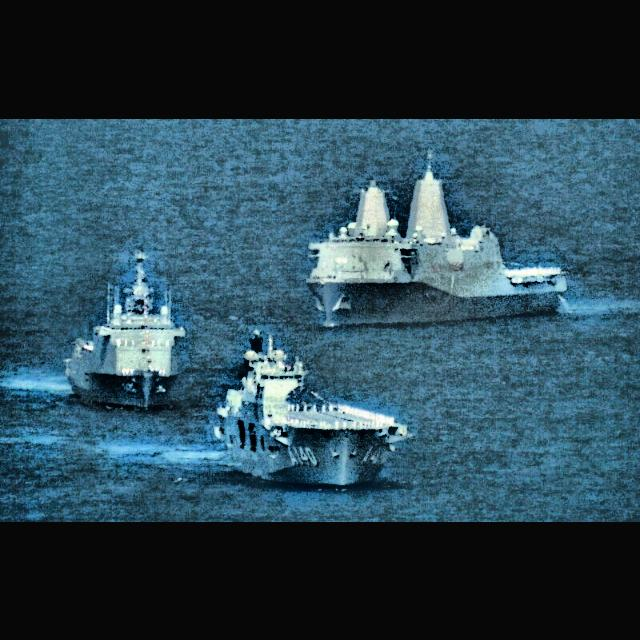combat_vessel: (307, 150, 568, 332), (202, 324, 414, 492), (63, 243, 187, 414)
